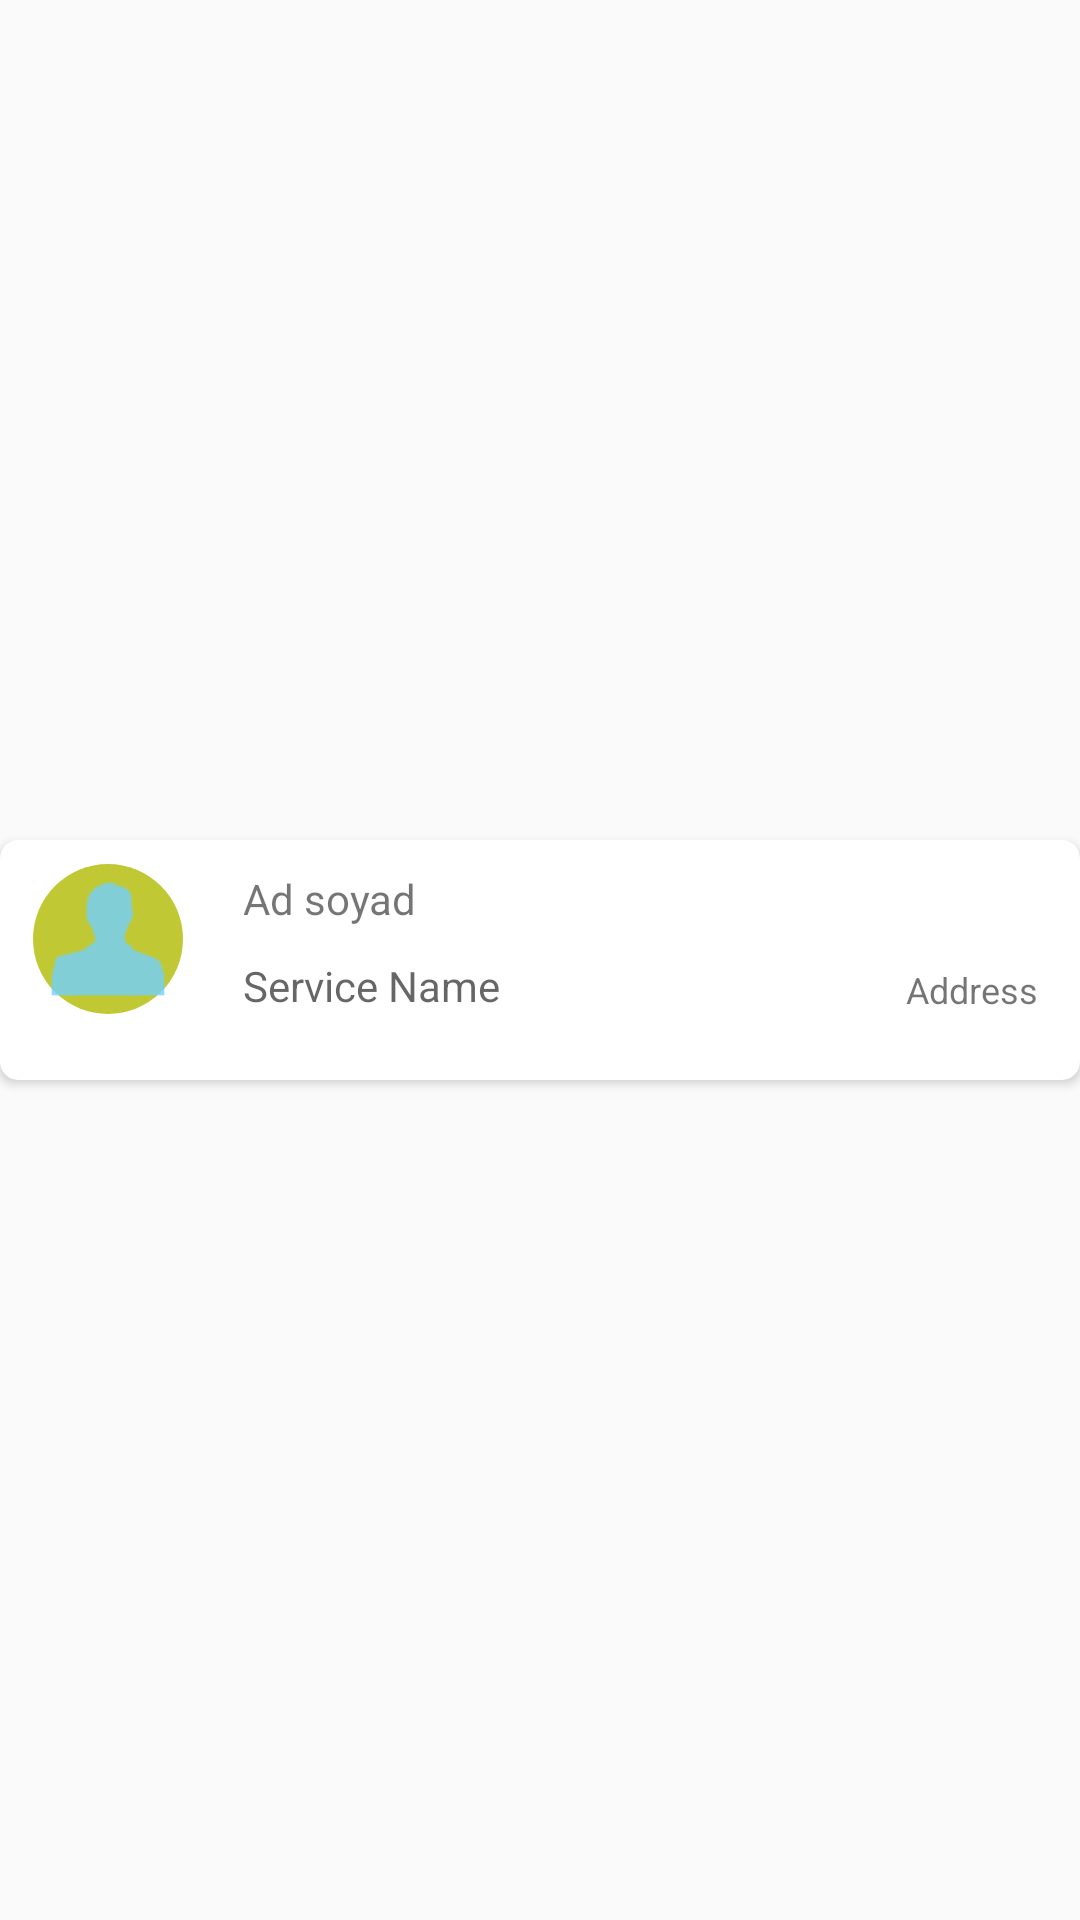

Named icons in this screenshot (1080px x 1920px) and their bounding boxes, (x1, y1, x2, y2):
pers: (33, 864, 183, 1014)
